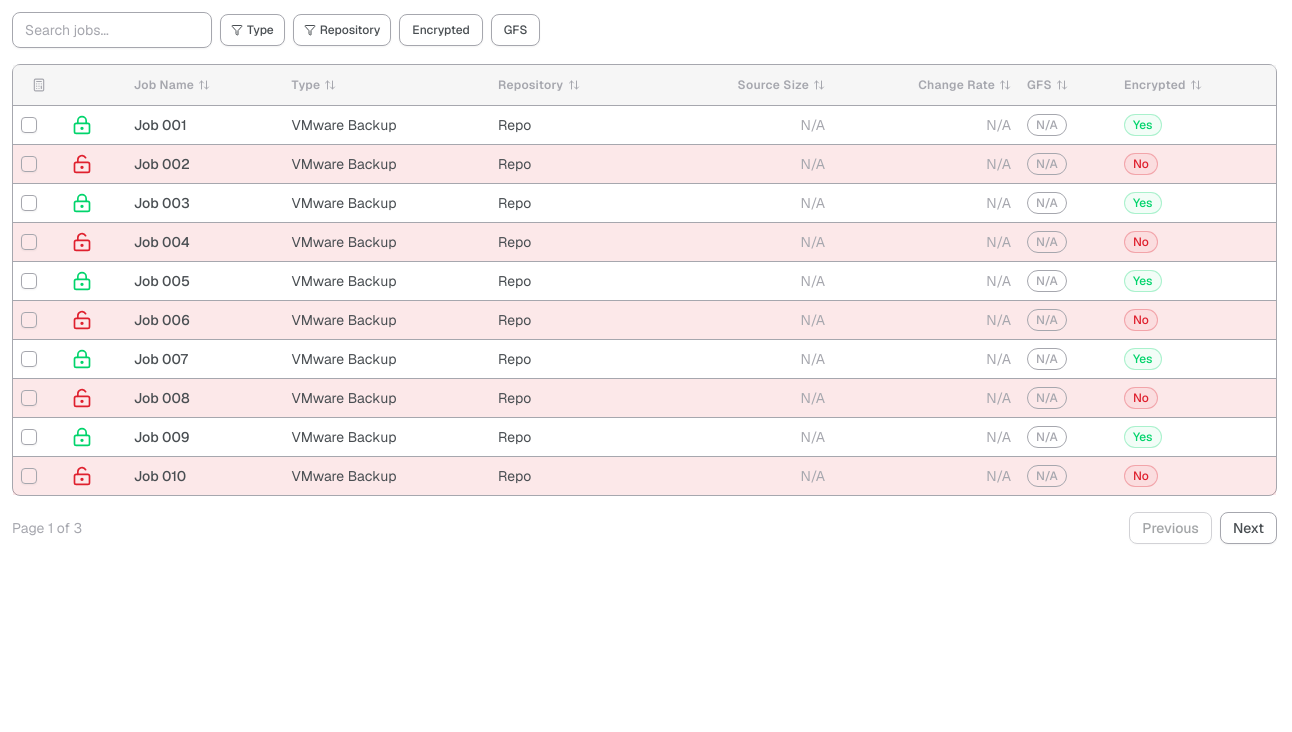
it: JobTable › navigates to next page
The image size is (1292, 732).
Step 1. Click the button "Next" → (1248, 528), box [1220,512,1277,544]
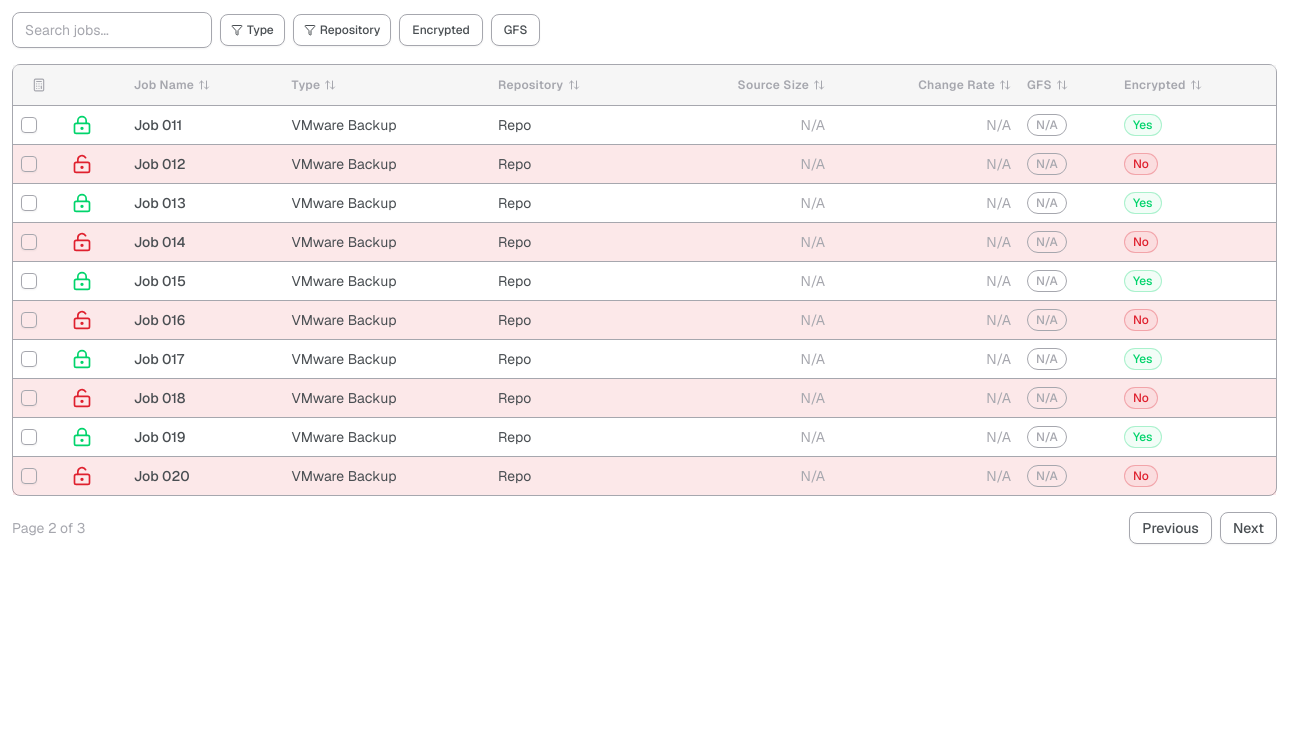
Expected: the text "Job 011" is shown, [134,116,182,134]
Expected: the button "Job 001" is gone
Expected: the text "Page 2 of 3" is shown, [12,518,85,538]
